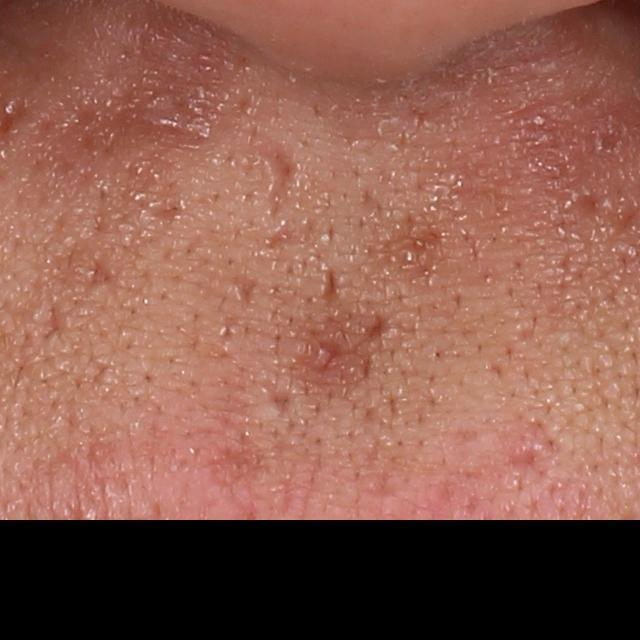atrophic_scar: (313, 335, 375, 382), (263, 143, 295, 222), (260, 220, 301, 255), (80, 259, 118, 294), (38, 294, 67, 339), (232, 275, 269, 309), (140, 194, 185, 221), (264, 382, 295, 417), (316, 262, 341, 304)
